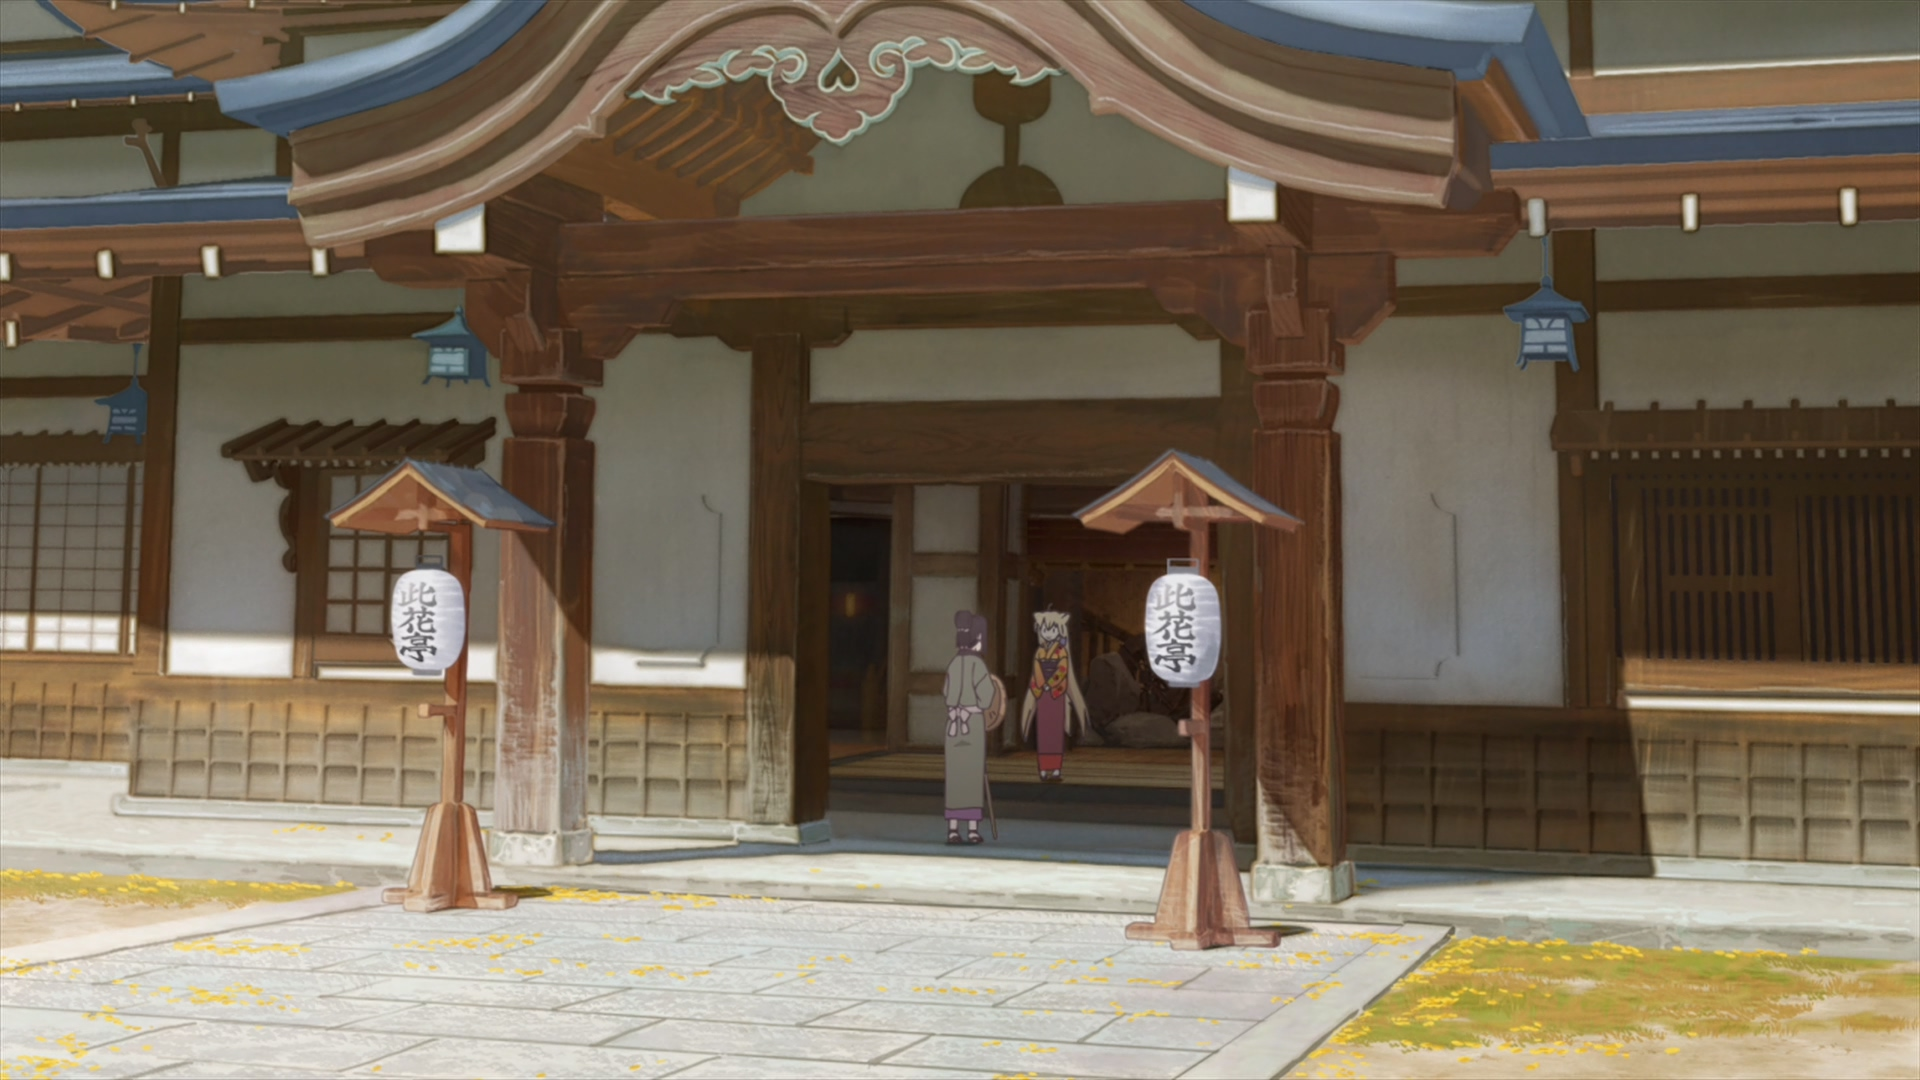其他: (938, 611, 1004, 847)
柚: (1018, 609, 1091, 782)
